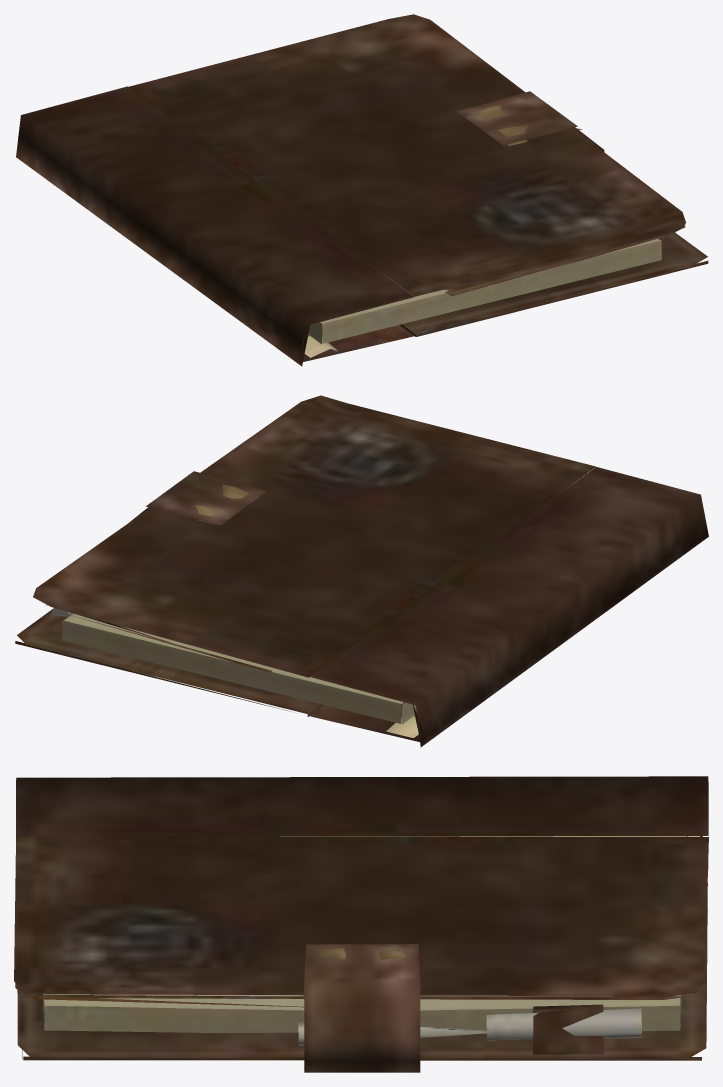
Rendered from binder.glb.
The picture shows the model from 3 angles, top to bottom: view 1: azimuth 30°, elevation 25°; view 2: azimuth 150°, elevation 25°; view 3: azimuth 270°, elevation 25°; orthographic projection. The views are drawn at different scales.
Parts seen in each view (by area): view 1: binder; view 2: binder; view 3: binder.
Part boxes in pixels (<box>): binder: <box>16,14,708,366</box>; binder: <box>15,395,708,747</box>; binder: <box>14,776,708,1072</box>.
Bounding box in the file's own units: 0.1701 × 0.0248 × 0.1998.
Materials: 1 (1 with a texture image).
